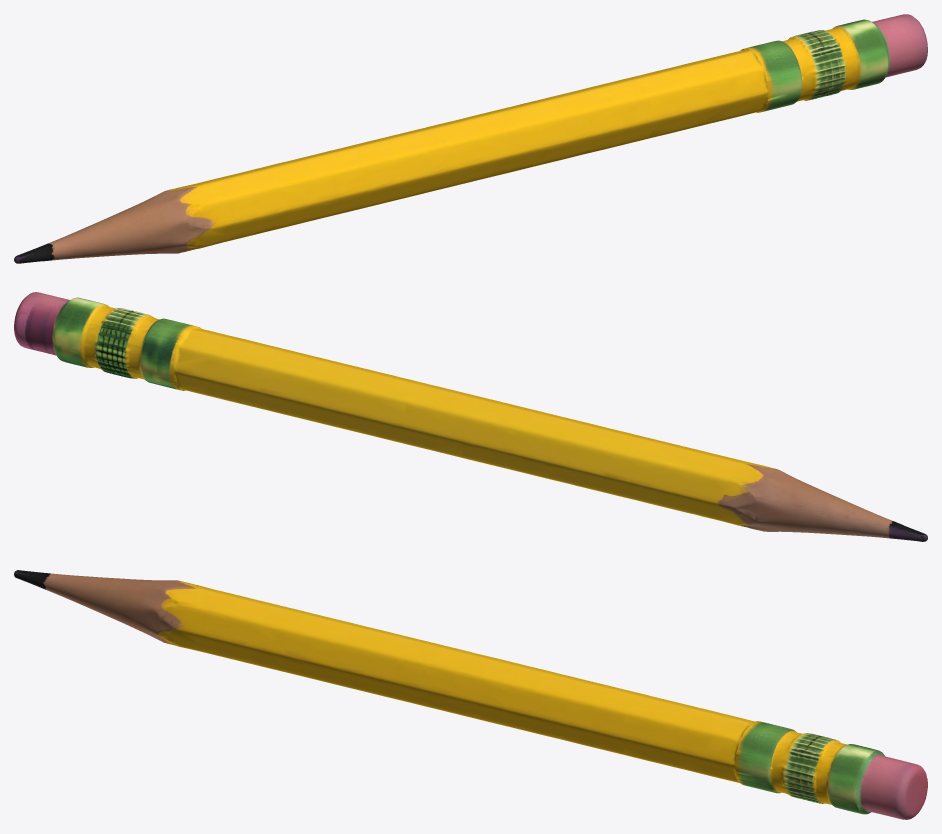
Rendered from Meshy_AI_Golden_Pencil_Across__0323010257_texture.glb.
3 views of the same model, one above another, from view 1: azimuth 30°, elevation 25°; view 2: azimuth 150°, elevation 25°; view 3: azimuth 330°, elevation 25° (orthographic).
Bounding box in the file's own units: 1.9 × 0.1198 × 0.1216.
1 material, 1 textured.
